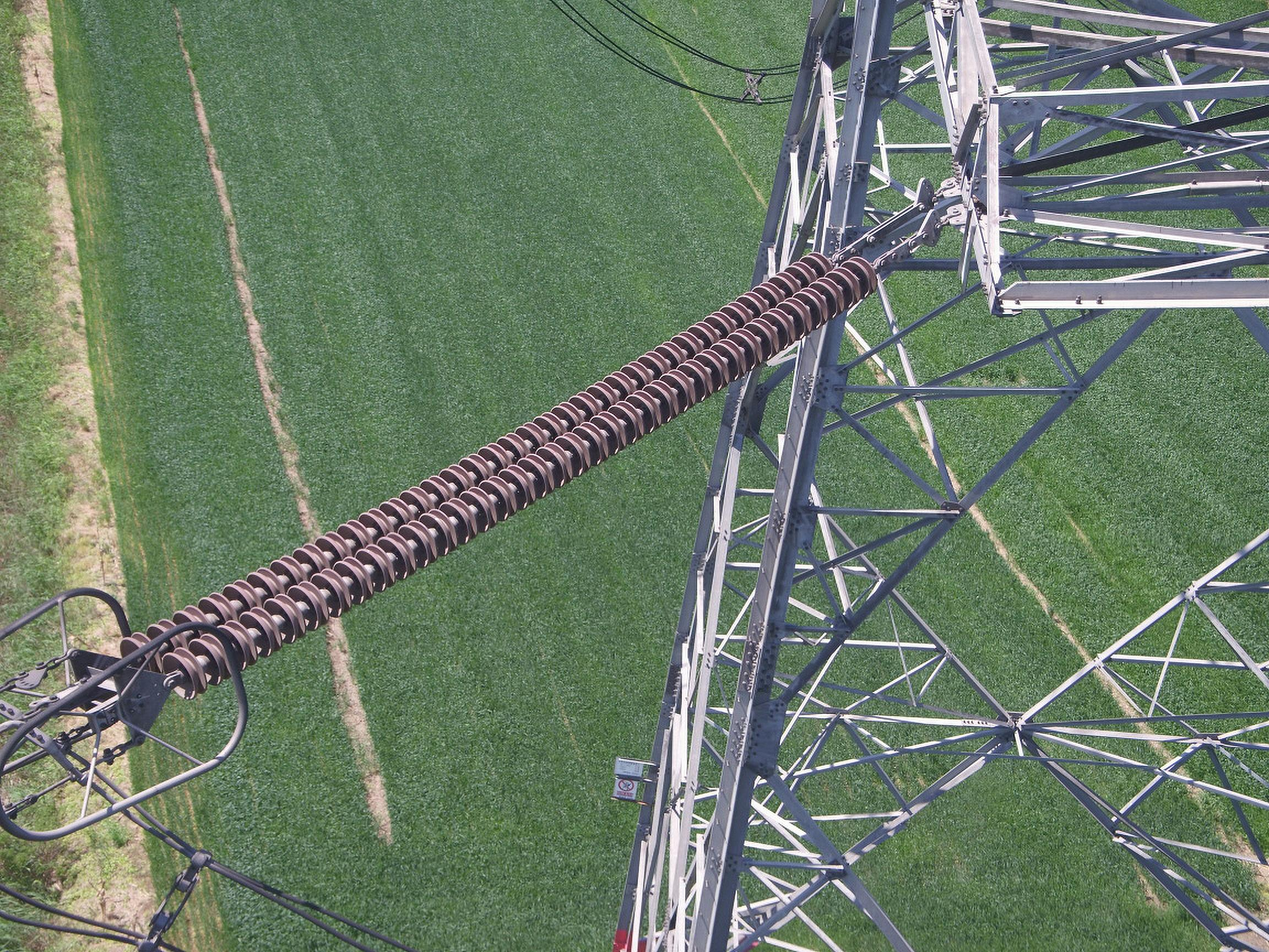insulator: (113, 250, 882, 706)
